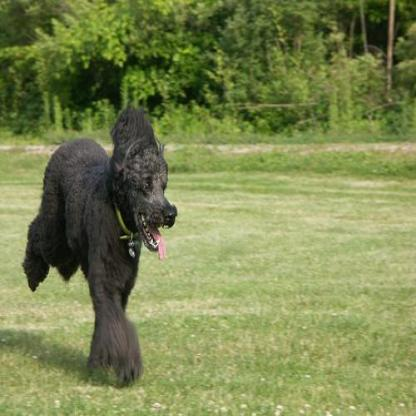standard_poodle: (20, 102, 177, 388)
